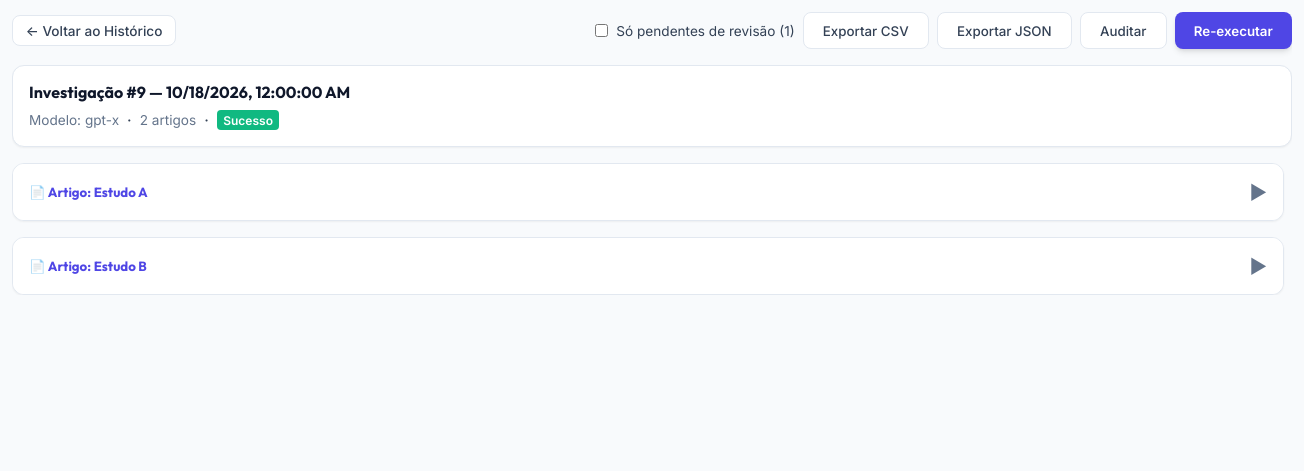
InvestigationDetailView, reviewing AI answers (#47) › saves the decision and shows the row the database answered
The width and height of the screenshot is (1304, 471).
Click the heading "📄 Artigo: Estudo A".
click(88, 192)  # box [29,184,148,200]
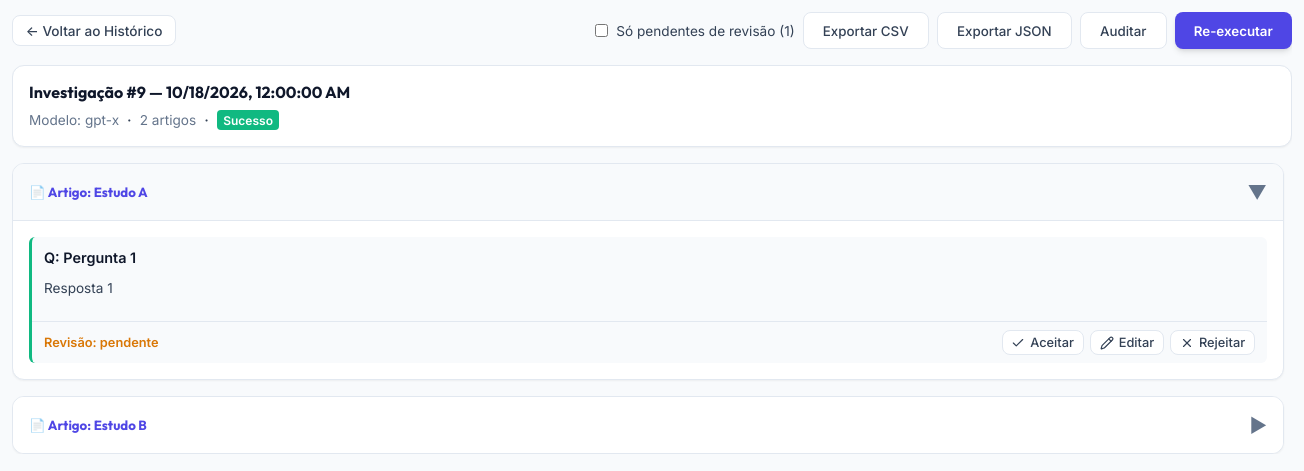
Click the button "Rejeitar".
click(1213, 343)  # box [1170,330,1255,355]
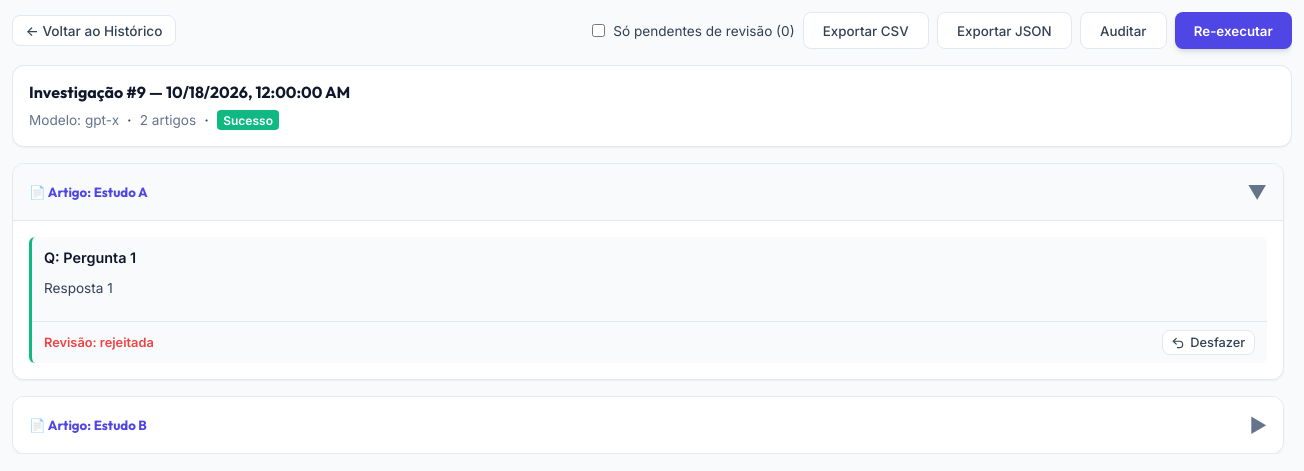
Now the text "Revisão: rejeitada" is shown, box [44,335,154,350]
